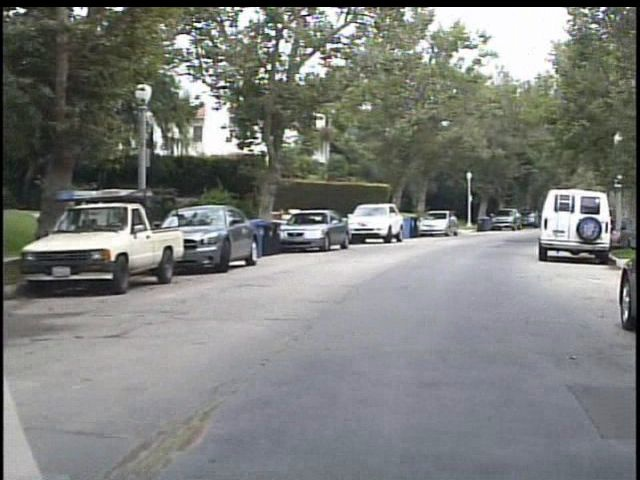person: (617, 223, 636, 252)
